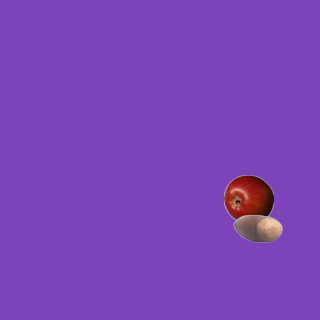Apple Braeburn: (223, 174, 273, 224)
Hazelnut: (232, 203, 282, 253)
